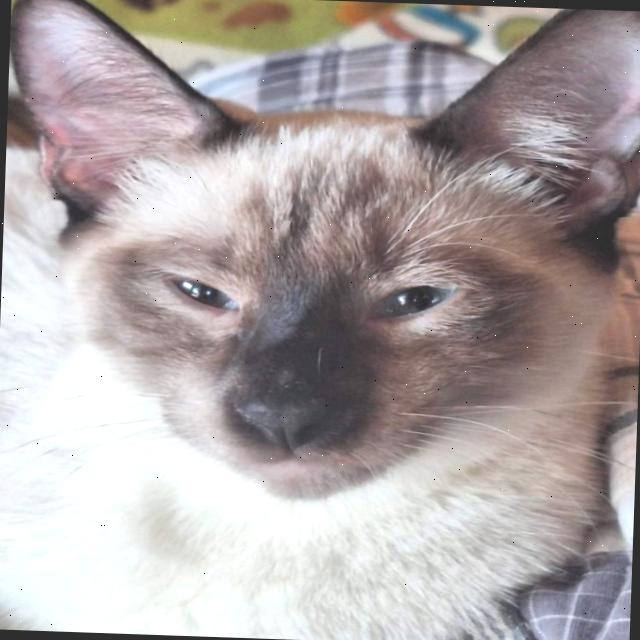siamese_cat: (0, 0, 640, 529)
